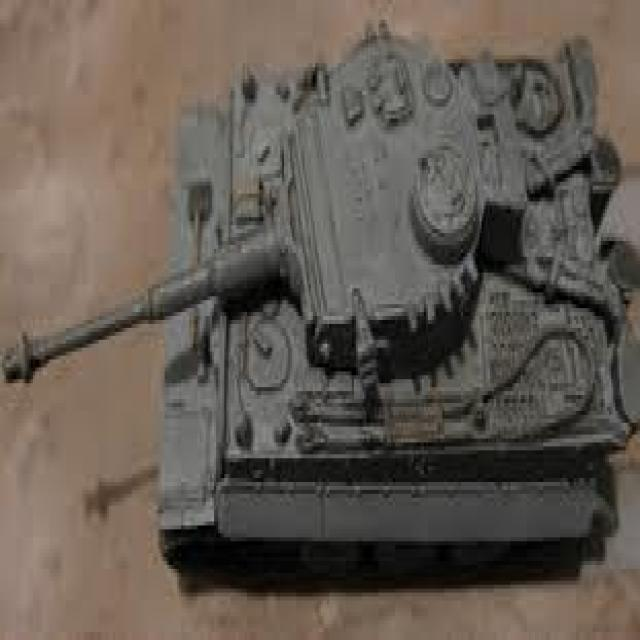Tanks: (6, 10, 630, 575)
